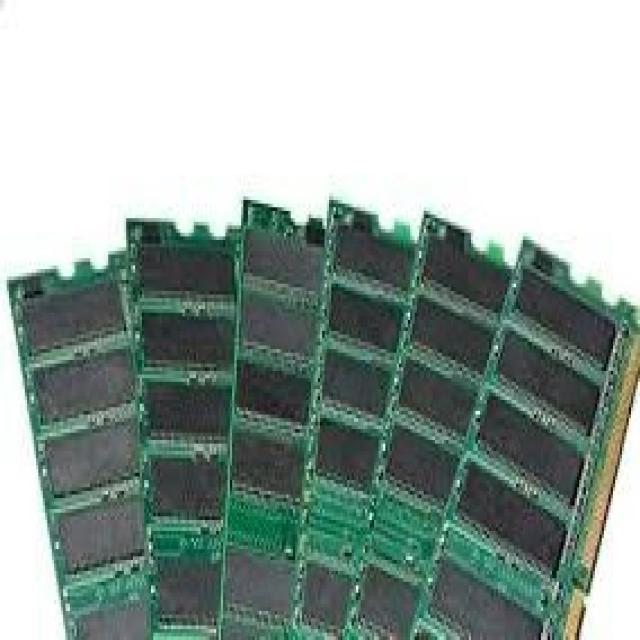Ram: (23, 57, 613, 640)
